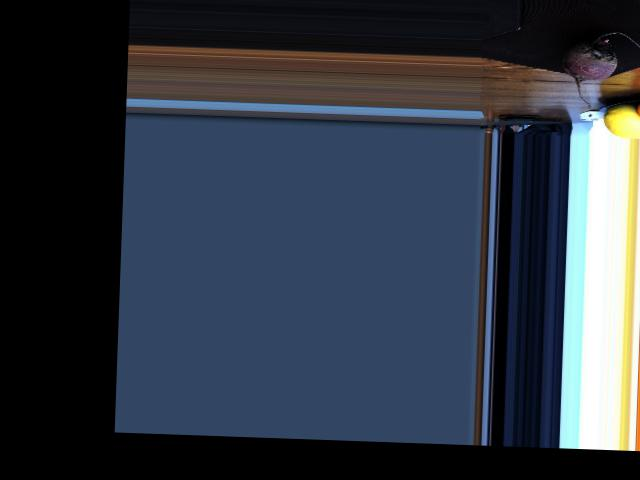beet: (560, 30, 640, 106)
